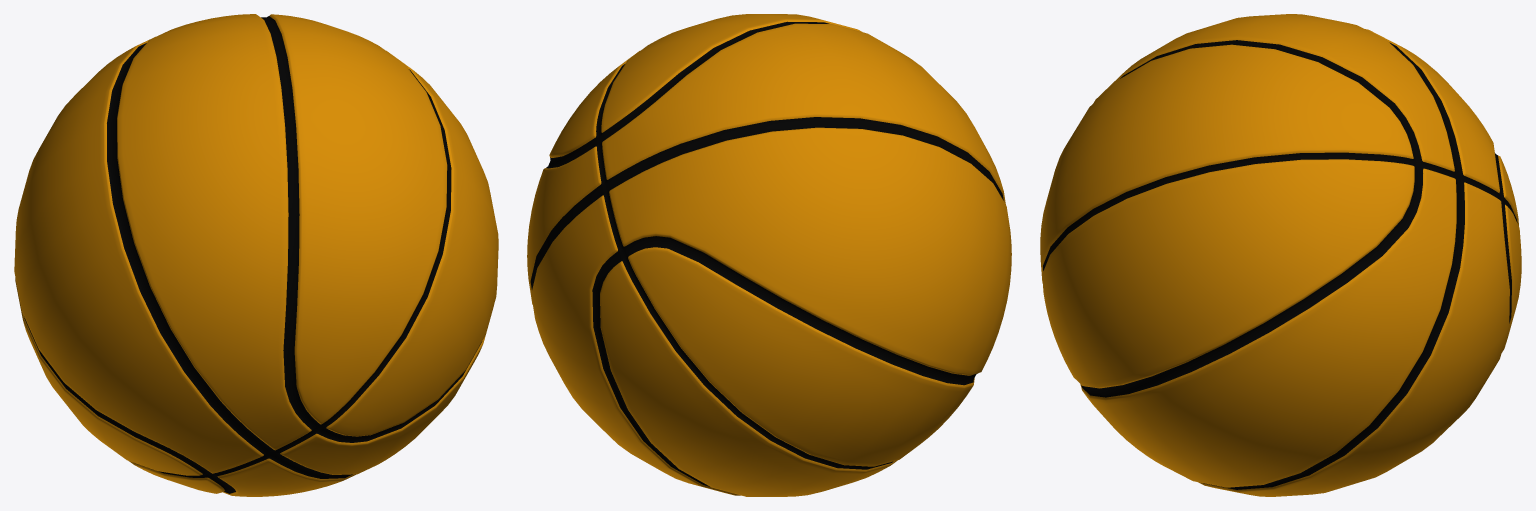
File: ball.fbx
The picture shows the model from 3 angles, left to right: view 1: azimuth 30°, elevation 25°; view 2: azimuth 150°, elevation 25°; view 3: azimuth 270°, elevation 25°; orthographic projection.
Parts seen in each view (by area): view 1: Sphere01; view 2: Sphere01; view 3: Sphere01.
Boxes of the visible parts, <box> form: Sphere01: <box>14,14,498,496</box>; Sphere01: <box>527,14,1011,496</box>; Sphere01: <box>1040,14,1521,496</box>.
Bounding box in the file's own units: 55.58 × 55.62 × 55.33.
